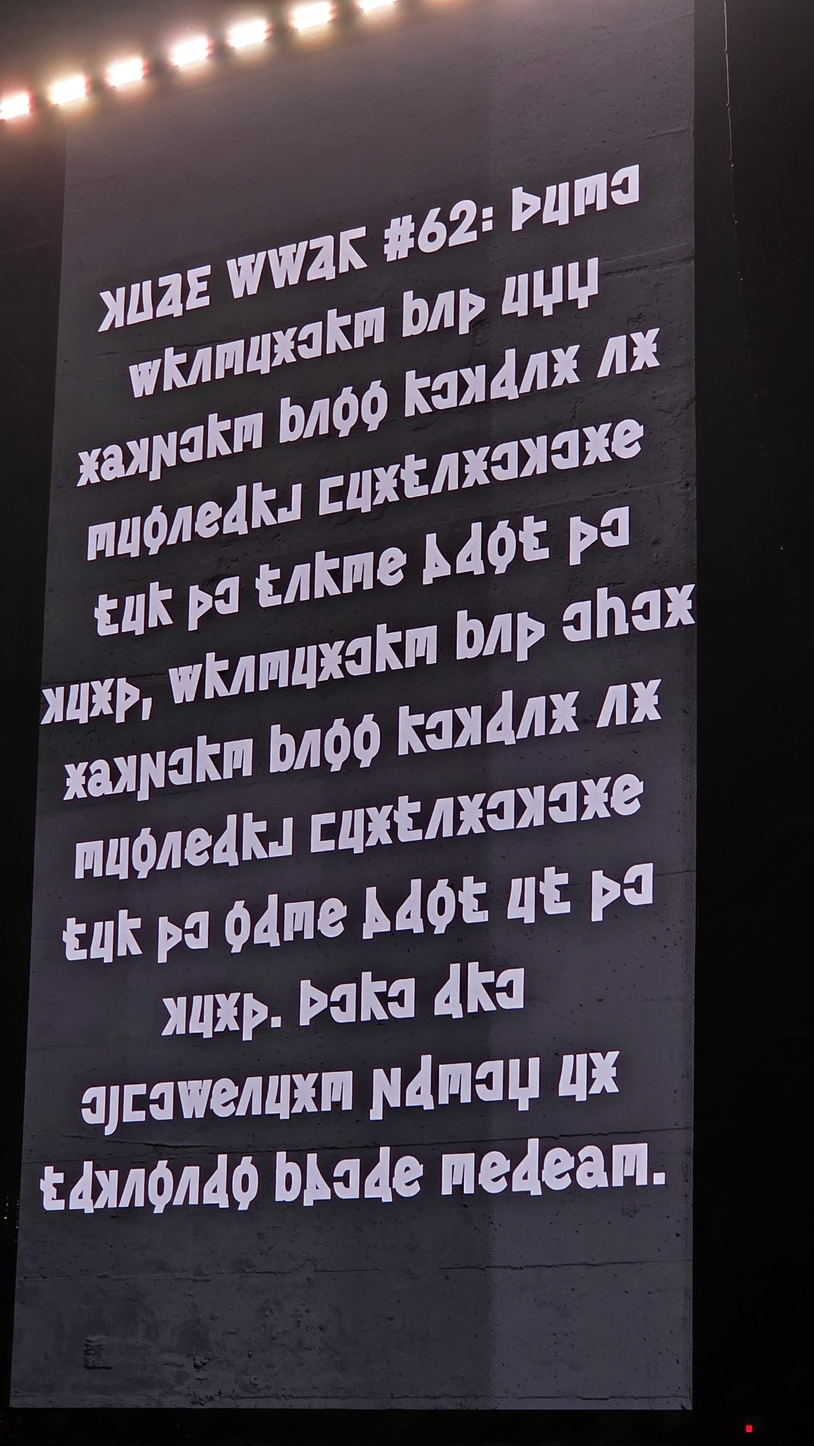2: (444, 196, 481, 251)
6: (414, 203, 451, 257)
A: (303, 231, 340, 285), (152, 269, 187, 321)
M: (94, 283, 130, 336)
O: (123, 276, 157, 329)
P: (263, 236, 312, 293), (222, 247, 271, 303)
R: (335, 222, 372, 278)
T: (182, 260, 215, 314)
TH: (295, 976, 332, 1030)
a: (507, 1133, 547, 1201), (481, 685, 521, 750), (400, 1049, 439, 1115), (429, 958, 468, 1023), (359, 1142, 398, 1207), (390, 874, 429, 938), (451, 517, 490, 580), (486, 344, 524, 405), (198, 1149, 234, 1213), (249, 889, 285, 952), (208, 809, 243, 871), (64, 1156, 99, 1218), (218, 481, 253, 540)
b: (365, 1063, 406, 1125), (144, 427, 182, 486), (133, 746, 170, 806)
c: (315, 471, 347, 519), (307, 809, 339, 856), (119, 1080, 150, 1126)
d: (504, 1052, 545, 1116), (563, 252, 603, 314), (528, 261, 567, 321)
e: (620, 859, 657, 909), (607, 160, 643, 209), (597, 502, 633, 551), (628, 586, 664, 635), (545, 777, 581, 826), (492, 964, 528, 1013), (559, 597, 595, 645), (472, 1056, 507, 1105), (483, 786, 518, 834), (384, 974, 419, 1022), (547, 426, 582, 473), (422, 706, 456, 754), (330, 1155, 364, 1202), (487, 438, 521, 484), (342, 632, 375, 679), (428, 367, 461, 413), (327, 980, 360, 1026), (211, 573, 243, 618), (294, 318, 326, 362), (165, 743, 196, 788), (176, 422, 207, 466), (181, 908, 212, 952), (78, 1083, 109, 1127), (146, 1079, 177, 1123)
f: (535, 862, 575, 919), (454, 872, 493, 927), (515, 511, 553, 566), (389, 791, 427, 846), (397, 450, 432, 502), (251, 560, 285, 611), (36, 1162, 69, 1214), (59, 914, 91, 964), (91, 590, 122, 640)
h: (298, 1148, 336, 1211), (418, 528, 456, 590), (358, 882, 395, 944)
i: (592, 680, 631, 732), (593, 331, 630, 382), (479, 609, 516, 660), (512, 692, 549, 743), (421, 793, 457, 843), (515, 348, 551, 397), (423, 287, 458, 335), (427, 449, 462, 497), (290, 725, 325, 773), (299, 394, 333, 442), (280, 560, 314, 607), (225, 652, 259, 699), (232, 1073, 266, 1119), (169, 1163, 203, 1209), (163, 502, 196, 548), (152, 827, 185, 873), (183, 343, 215, 390), (115, 1165, 148, 1210)
l: (422, 874, 461, 939), (483, 515, 521, 579), (319, 713, 356, 777), (349, 709, 385, 773), (227, 1151, 263, 1215), (220, 895, 255, 958), (143, 1155, 178, 1218), (356, 375, 392, 436), (328, 382, 363, 442), (128, 823, 161, 884), (139, 500, 172, 560)
m: (512, 782, 548, 832), (516, 431, 551, 481), (450, 702, 485, 751), (455, 361, 489, 409), (158, 993, 190, 1039), (90, 1166, 122, 1212), (37, 683, 68, 728), (109, 752, 140, 797), (122, 434, 152, 480)
n: (660, 580, 699, 632), (627, 675, 665, 727), (626, 324, 664, 375), (545, 687, 583, 738), (577, 773, 615, 824), (585, 1047, 623, 1098), (578, 419, 616, 469), (547, 341, 584, 391), (453, 789, 490, 839), (458, 442, 494, 492), (361, 801, 397, 850), (369, 460, 404, 509), (287, 1069, 322, 1117), (314, 637, 348, 685), (210, 989, 244, 1035), (268, 323, 301, 370), (60, 758, 92, 804), (73, 445, 105, 490), (86, 675, 118, 720)
o: (554, 1049, 591, 1106), (503, 872, 540, 928), (334, 804, 368, 858), (539, 178, 573, 230), (498, 269, 532, 321), (261, 1071, 295, 1123), (288, 641, 321, 693), (342, 466, 375, 516), (185, 991, 217, 1042), (86, 917, 118, 966), (102, 833, 133, 883), (118, 590, 149, 639), (62, 678, 93, 727), (243, 330, 274, 378), (114, 513, 144, 561)
p: (174, 1076, 216, 1122), (165, 660, 206, 707), (126, 355, 165, 401)
r: (463, 957, 501, 1017), (394, 701, 431, 760), (356, 967, 393, 1026), (371, 619, 408, 677), (310, 546, 346, 603), (238, 808, 273, 865), (401, 366, 437, 421), (192, 731, 226, 787), (200, 648, 234, 703), (113, 905, 147, 960), (322, 305, 357, 358), (247, 478, 281, 532), (144, 577, 177, 632), (203, 409, 236, 462), (159, 343, 191, 395)
s: (608, 1139, 652, 1190), (570, 168, 611, 220), (438, 1149, 479, 1199), (401, 622, 441, 671), (435, 1059, 475, 1108), (317, 1067, 356, 1115), (350, 303, 388, 352), (339, 548, 377, 597), (219, 735, 257, 783), (280, 897, 318, 945), (256, 646, 293, 694), (212, 336, 248, 383), (230, 409, 266, 456), (84, 518, 119, 564), (72, 837, 107, 882)
t: (538, 1144, 578, 1194), (607, 770, 647, 819), (475, 1147, 514, 1197), (389, 1152, 427, 1201), (608, 416, 647, 462), (314, 894, 350, 941), (374, 544, 410, 589), (207, 1075, 242, 1121), (181, 825, 215, 869), (192, 498, 226, 541)
th: (587, 865, 625, 927), (565, 511, 602, 570), (512, 607, 549, 666), (508, 182, 545, 235), (454, 284, 489, 339), (238, 989, 272, 1045), (153, 912, 186, 967), (184, 581, 217, 635), (112, 673, 144, 727)
u: (572, 1142, 612, 1193), (84, 756, 116, 800), (97, 441, 129, 484)
v: (592, 582, 633, 643)
w: (452, 605, 489, 664), (271, 1147, 306, 1206), (265, 720, 300, 777), (398, 286, 433, 341), (275, 393, 309, 447)
x: (100, 1081, 124, 1140)
y: (274, 480, 305, 527), (265, 814, 296, 861)
